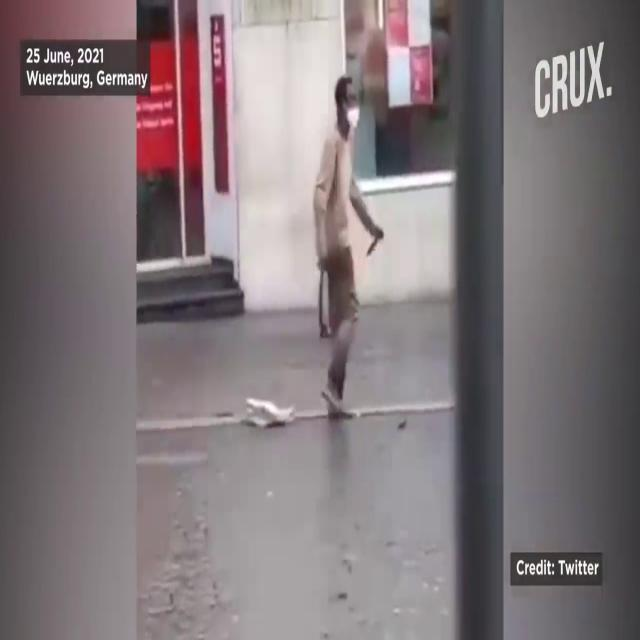Knife: (365, 220, 387, 264)
